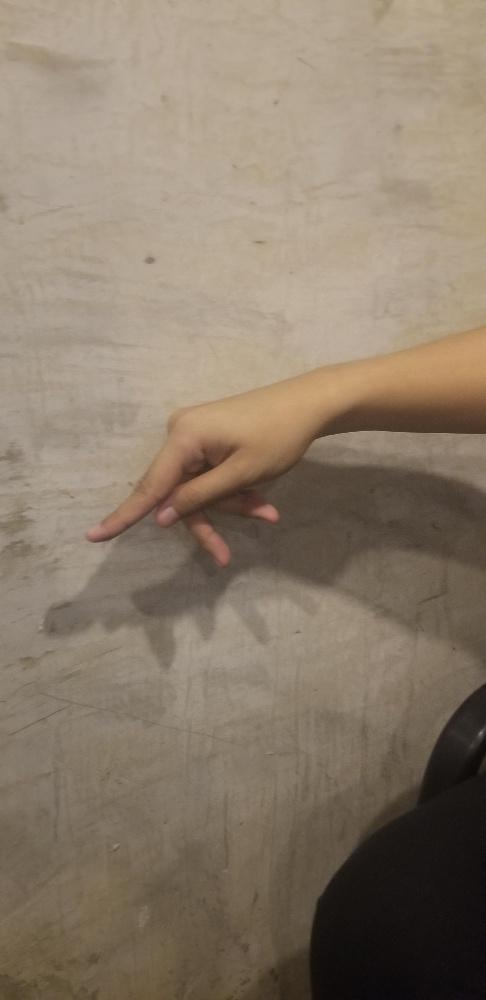p: (84, 376, 302, 567)
